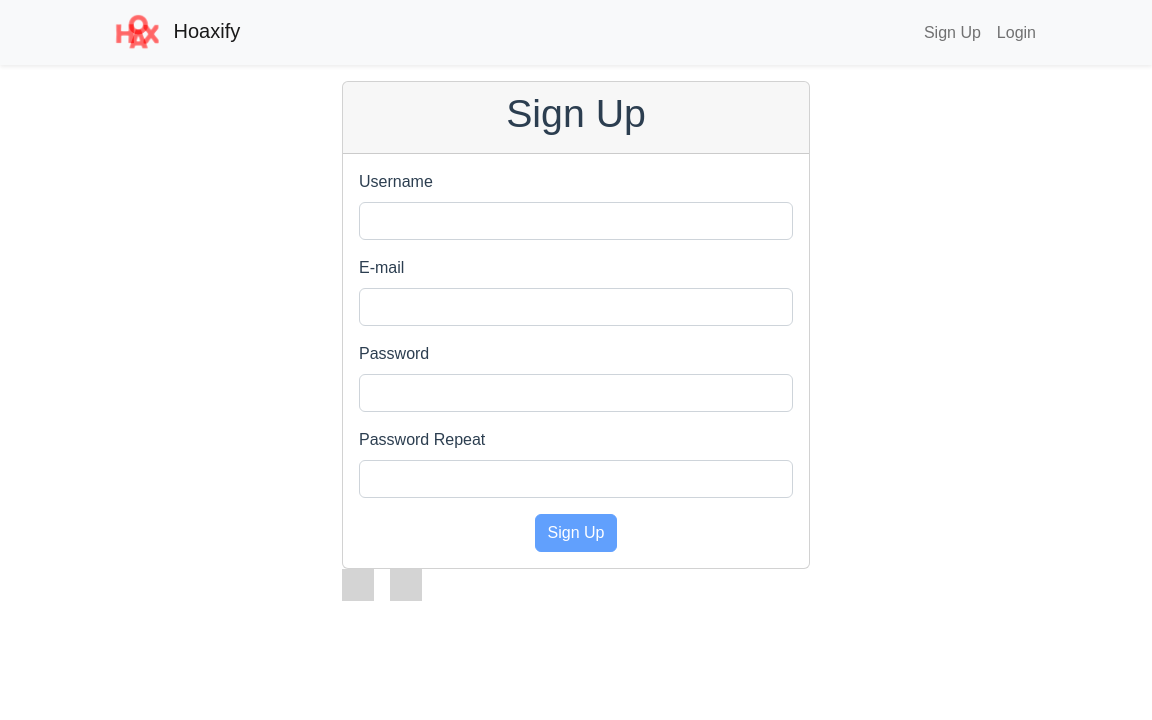
Test: Routing › displays sign-up page after clicking sign-up link
Click the link "Login": click(1016, 32) [997,24,1036,41]
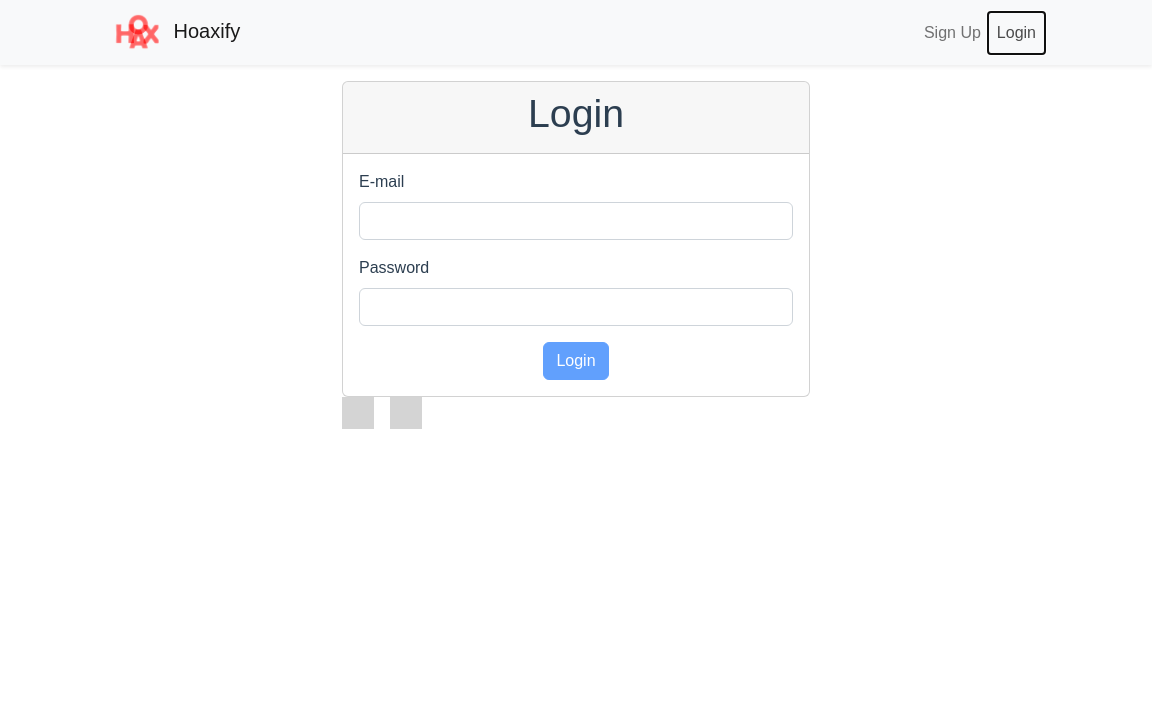
Expected: the element with test id "login-page" is shown, [342,81,810,397]
